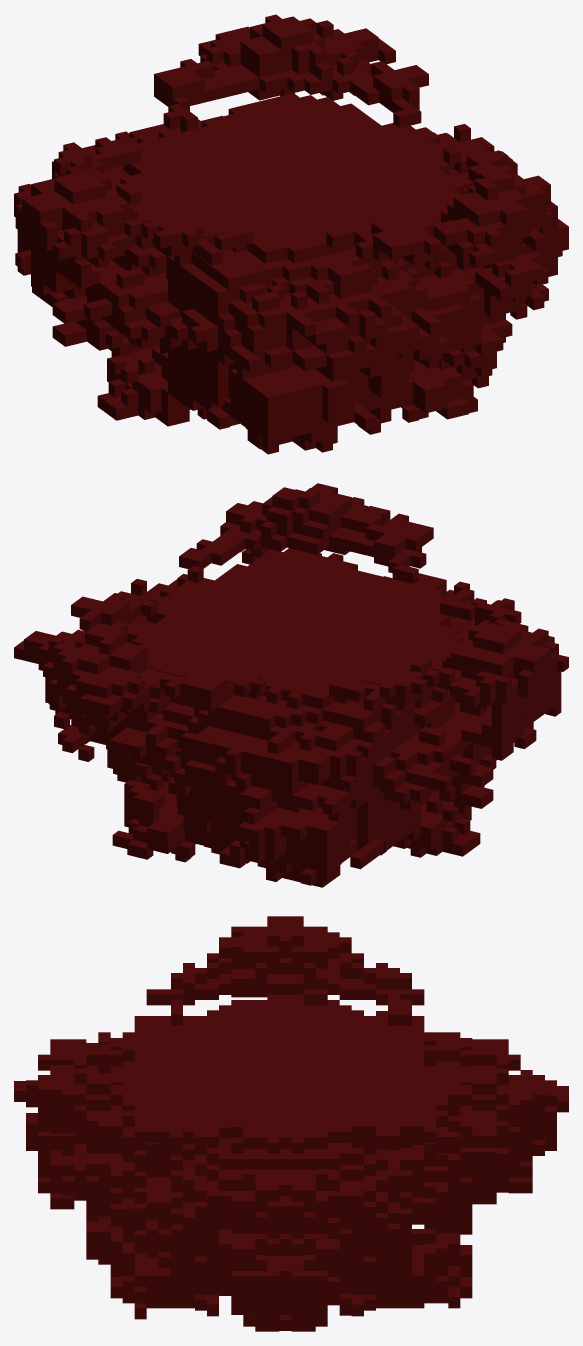
Rendered from bad-14.obj.
3 renders of one model, top to bottom at view 1: azimuth 30°, elevation 25°; view 2: azimuth 150°, elevation 25°; view 3: azimuth 270°, elevation 25°, orthographic. The views are drawn at different scales.
Size of the model in its own units: 4.7 by 2.2 by 4.6.
Materials: 1 (1 with a texture image).
